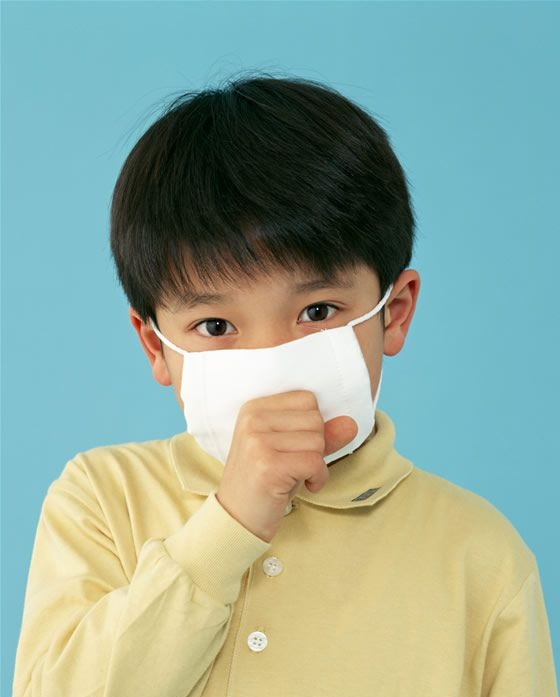face_mask: (178, 182, 373, 477)
